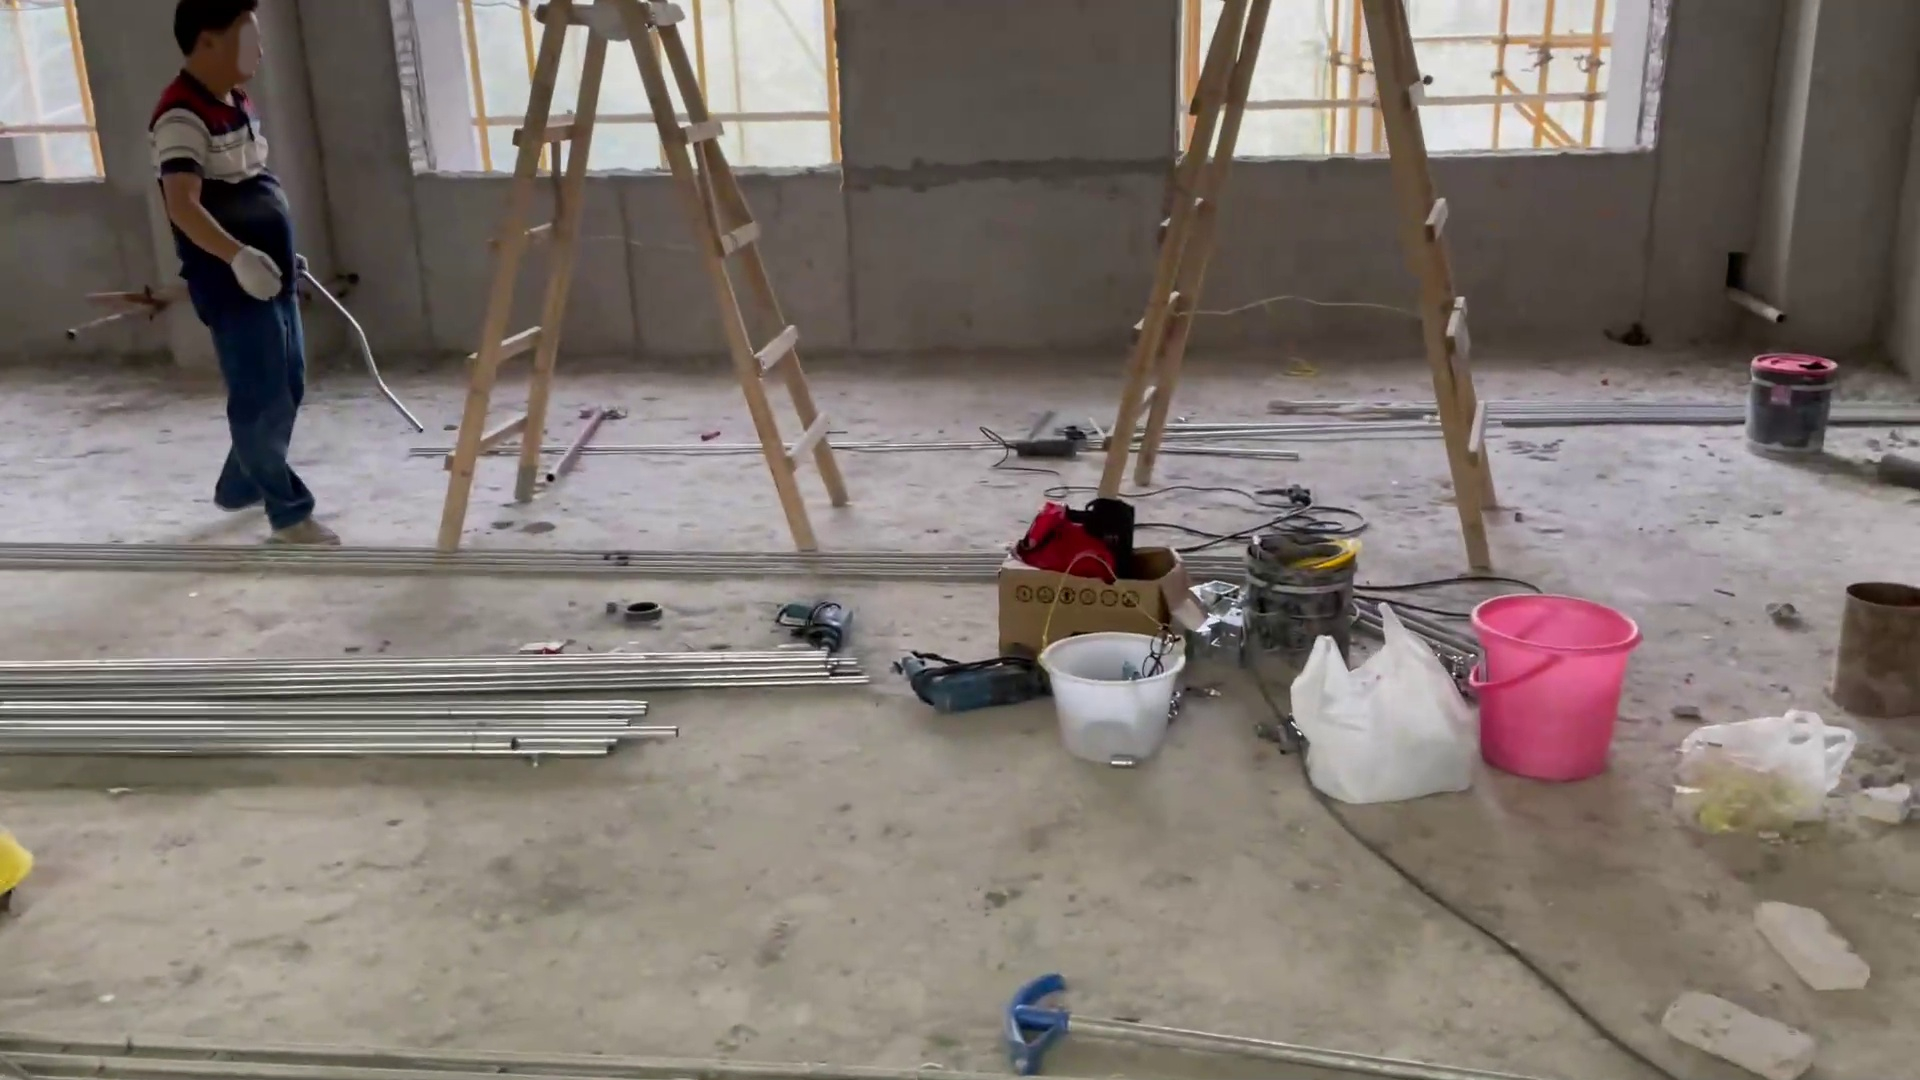helmet: (1, 816, 32, 917)
person: (127, 1, 377, 549)
